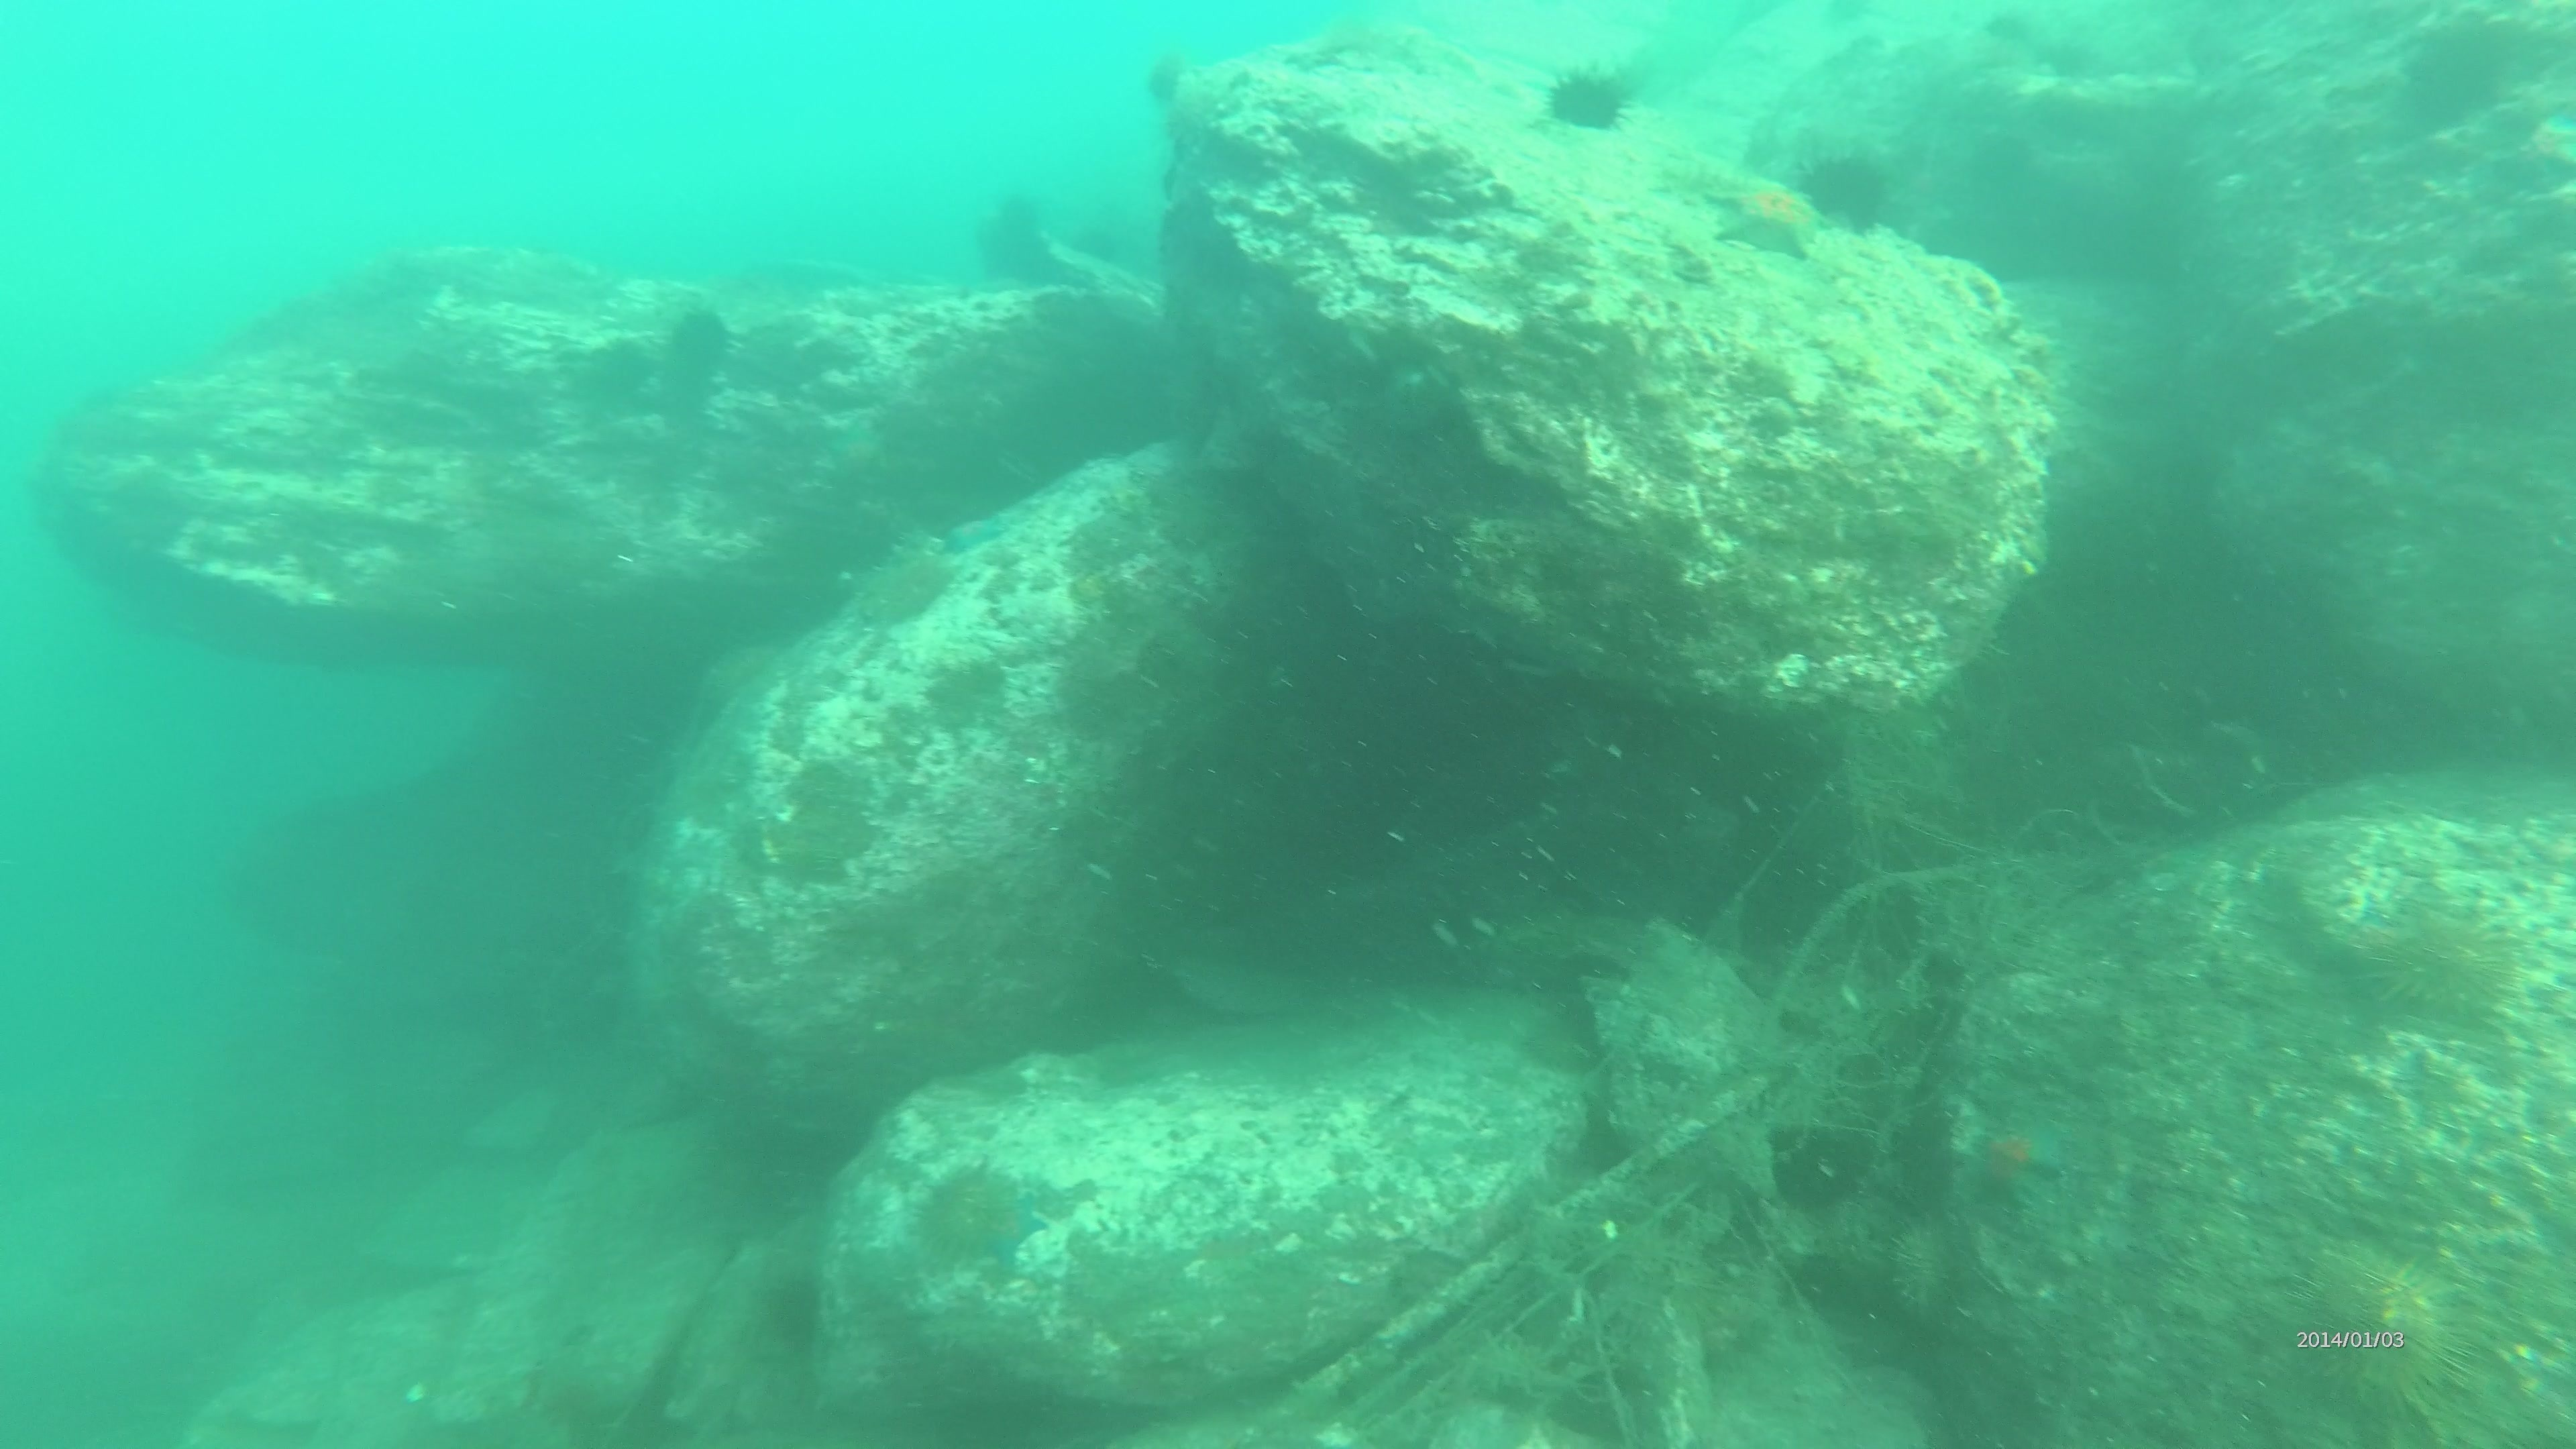echinus: (2284, 1230, 2477, 1422), (2353, 897, 2528, 1039), (902, 1154, 1044, 1277), (2390, 11, 2523, 138), (1877, 1208, 1982, 1330), (1794, 142, 1900, 241), (1534, 57, 1644, 143), (653, 297, 740, 403), (747, 1261, 835, 1359)
holothurian: (840, 527, 966, 639)
starfish: (1698, 161, 1835, 265), (1960, 1099, 2077, 1207)
